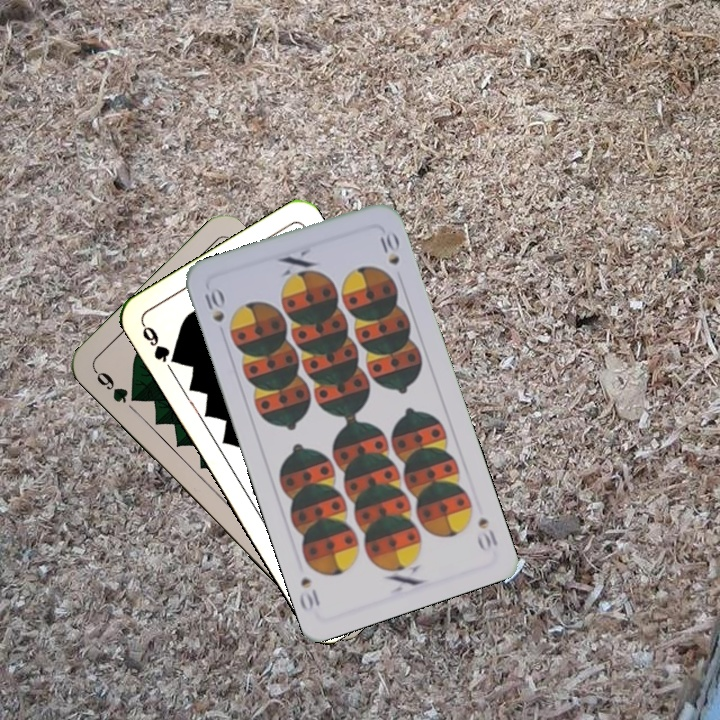G9: (138, 319, 183, 367), (90, 366, 143, 406)
S10: (200, 283, 227, 325), (473, 513, 500, 554)
